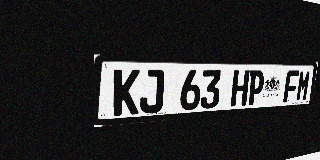3: (200, 70, 221, 109)
6: (180, 70, 202, 111)
F: (283, 70, 299, 102)
H: (230, 70, 250, 106)
J: (139, 69, 165, 114)
K: (113, 69, 140, 116)
M: (295, 70, 311, 101)
P: (247, 70, 265, 105)
